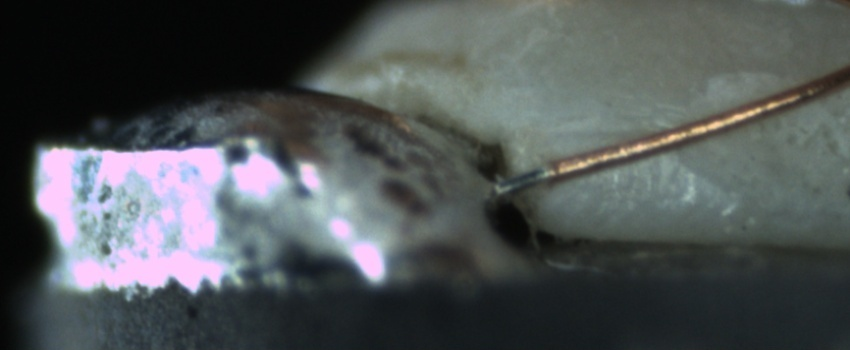DL: (533, 100, 673, 160)
TS: (492, 166, 547, 197)
